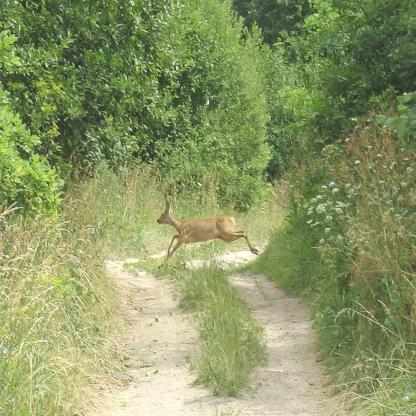Deer: (156, 196, 259, 267)
